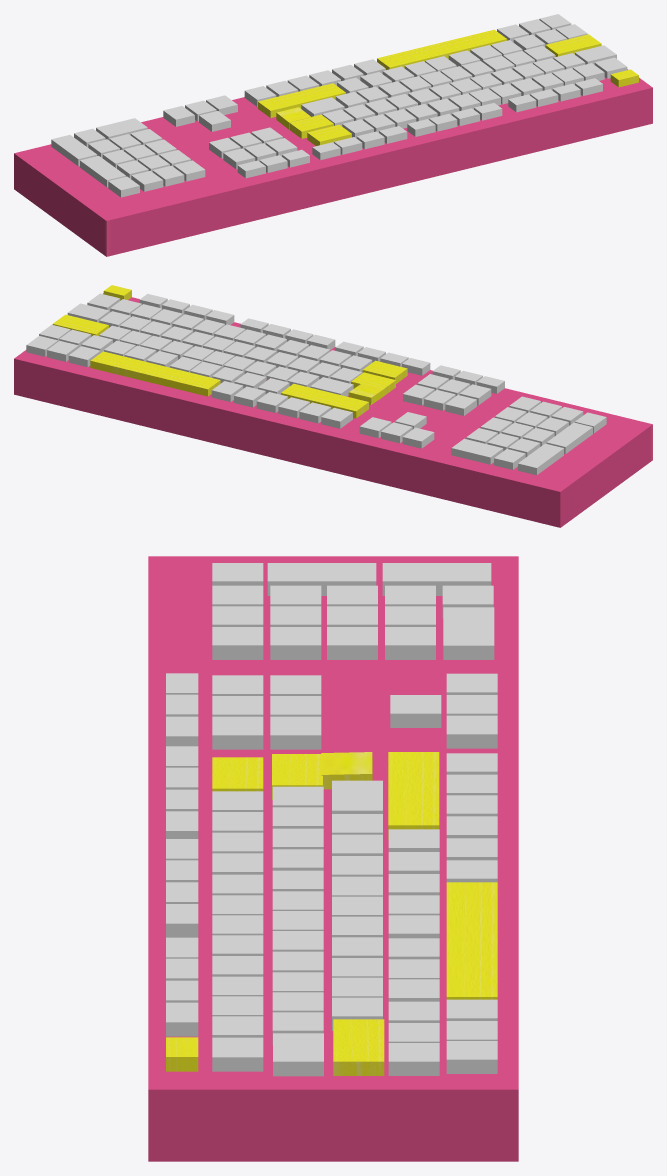
File: Teclado.glb
The picture shows the model from 3 angles, top to bottom: view 1: azimuth 30°, elevation 25°; view 2: azimuth 150°, elevation 25°; view 3: azimuth 270°, elevation 25°; orthographic projection. The views are drawn at different scales.
Visible parts, largest first — view 1: Cube, Cube.042, Cube.049, Cube.088, Cube.087, Cube.033, Cube.090, Cube.036, Cube.047, Cube.052, Cube.032, Cube.086 (+28 smaller); view 2: Cube, Cube.042, Cube.049, Cube.088, Cube.090, Cube.087, Cube.033, Cube.036, Cube.047, Cube.052, Cube.048, Cube.032 (+21 smaller); view 3: Cube, Cube.042, Cube.049, Cube.033, Cube.090, Cube.088, Cube.087, Cube.032, Cube.031, Cube.036, Cube.064, Cube.068 (+84 smaller).
Boxes of the visible parts, x1=… form: Cube: x1=14, y1=69, x2=652, y2=256; Cube.042: x1=377, y1=29, x2=507, y2=69; Cube.049: x1=258, y1=83, x2=345, y2=117; Cube.088: x1=51, y1=135, x2=97, y2=166; Cube.087: x1=80, y1=156, x2=125, y2=187; Cube.033: x1=545, y1=34, x2=601, y2=56; Cube.090: x1=96, y1=118, x2=147, y2=140; Cube.036: x1=307, y1=124, x2=351, y2=145; Cube.047: x1=289, y1=114, x2=333, y2=138; Cube.052: x1=301, y1=97, x2=344, y2=116; Cube.032: x1=575, y1=45, x2=616, y2=64; Cube.086: x1=108, y1=176, x2=139, y2=197; Cube: x1=14, y1=293, x2=652, y2=527; Cube.042: x1=90, y1=351, x2=220, y2=396; Cube.049: x1=281, y1=383, x2=368, y2=418; Cube.088: x1=518, y1=443, x2=563, y2=475; Cube.090: x1=451, y1=438, x2=503, y2=464; Cube.087: x1=546, y1=422, x2=592, y2=454; Cube.033: x1=52, y1=314, x2=108, y2=336; Cube.036: x1=362, y1=360, x2=407, y2=383; Cube.047: x1=351, y1=372, x2=395, y2=395; Cube.052: x1=310, y1=377, x2=353, y2=396; Cube.048: x1=348, y1=383, x2=383, y2=404; Cube.032: x1=67, y1=303, x2=109, y2=322; Cube: x1=148, y1=556, x2=518, y2=1161; Cube.042: x1=446, y1=882, x2=497, y2=999; Cube.049: x1=388, y1=752, x2=439, y2=839; Cube.033: x1=333, y1=1019, x2=384, y2=1075; Cube.090: x1=443, y1=607, x2=494, y2=659; Cube.088: x1=382, y1=563, x2=491, y2=595; Cube.087: x1=267, y1=563, x2=376, y2=595; Cube.032: x1=273, y1=1033, x2=323, y2=1076; Cube.031: x1=212, y1=1037, x2=263, y2=1071; Cube.036: x1=212, y1=757, x2=263, y2=791; Cube.064: x1=446, y1=715, x2=497, y2=748; Cube.068: x1=212, y1=716, x2=263, y2=749.
Size of the model in its own units: 1.03 by 0.0872 by 0.3026.
Materials: 8 (8 with a texture image).
